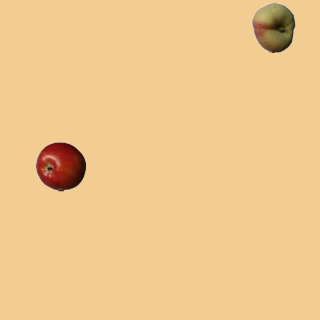Apple Braeburn: (35, 141, 85, 191)
Peach Flat: (248, 2, 298, 52)
